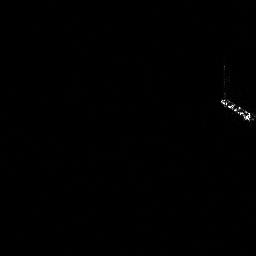ship: (215, 95, 255, 125)
